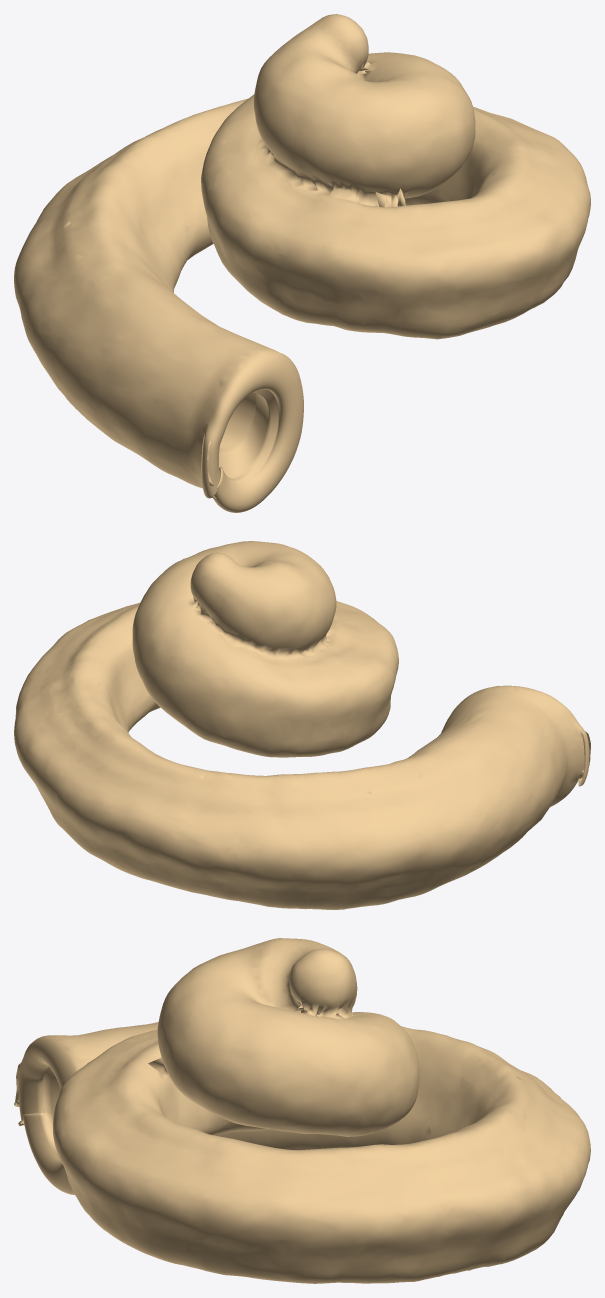
Rendered from aetiocetus_cochlea.glb.
The picture shows the model from 3 angles, top to bottom: view 1: azimuth 30°, elevation 25°; view 2: azimuth 150°, elevation 25°; view 3: azimuth 270°, elevation 25°; orthographic projection. The views are drawn at different scales.
Visible parts, largest first — view 1: cf_Aetiocetus_Cochlea_Hollow; view 2: cf_Aetiocetus_Cochlea_Hollow; view 3: cf_Aetiocetus_Cochlea_Hollow.
Boxes of the visible parts, left/top/right/bottom form: cf_Aetiocetus_Cochlea_Hollow: left=14, top=14, right=590, bottom=512; cf_Aetiocetus_Cochlea_Hollow: left=14, top=541, right=590, bottom=909; cf_Aetiocetus_Cochlea_Hollow: left=14, top=938, right=590, bottom=1283.
Size of the model in its own units: 11.45 by 7.29 by 11.11.
